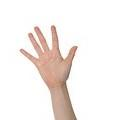pa-: (19, 25, 78, 84)
